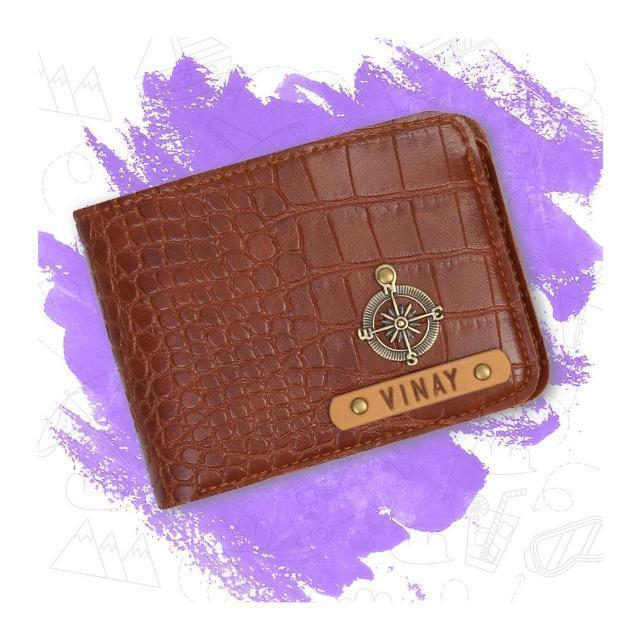wallet: (64, 102, 554, 516)
